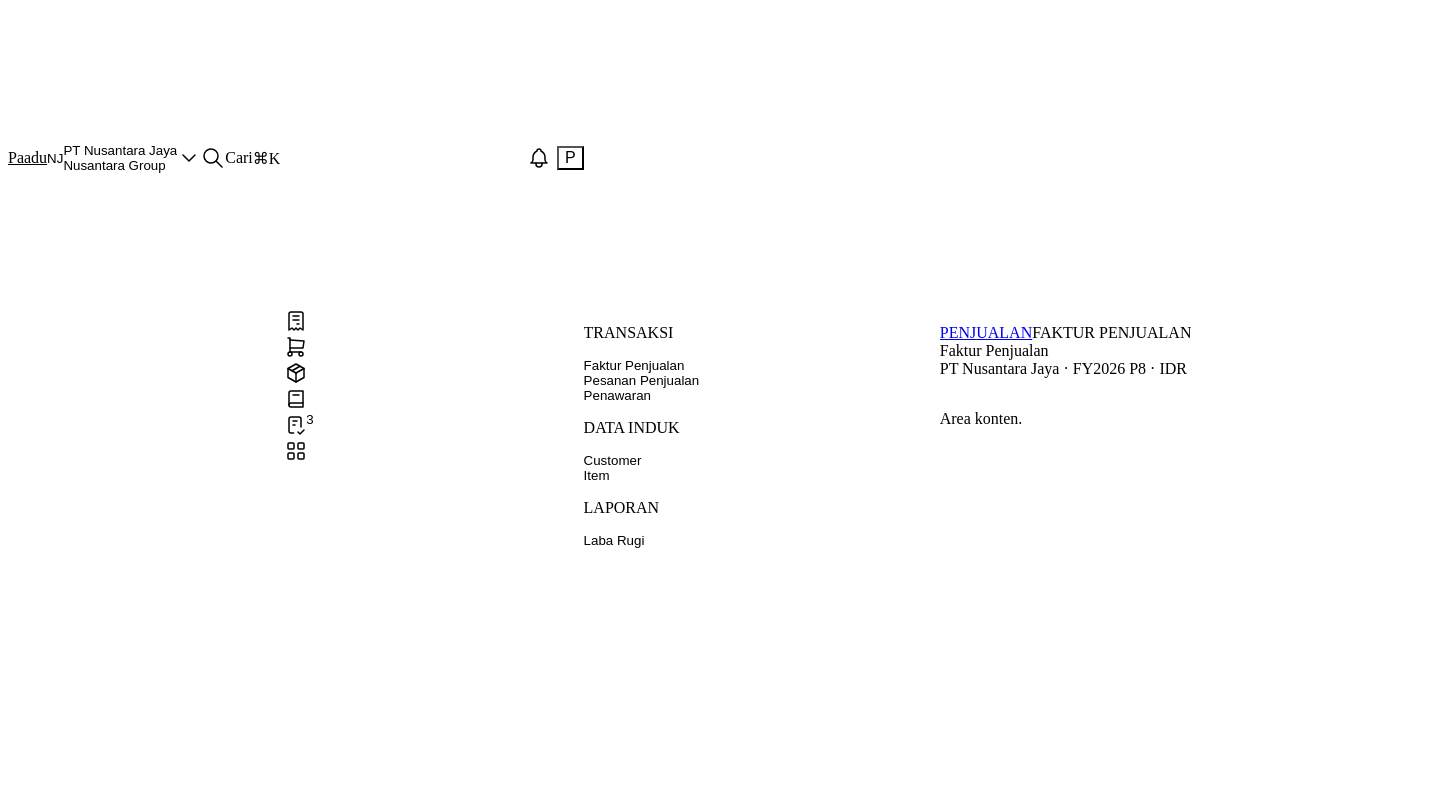
Test: Esc menutup pengalih dan mengembalikan fokus
Click the button "NJ PT Nusantara Jaya Nusantara Group": (124, 158) [47,143,201,173]
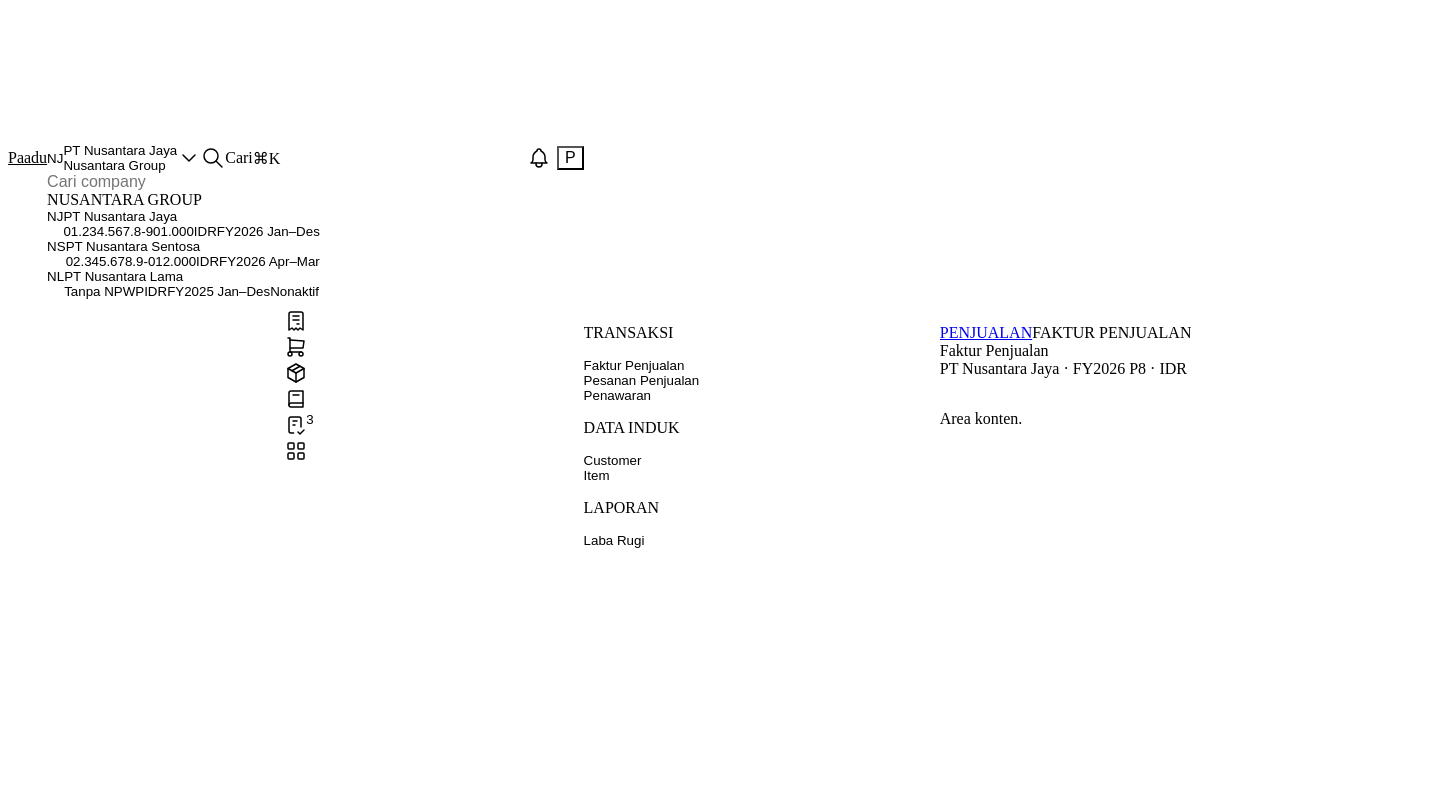
Press Escape
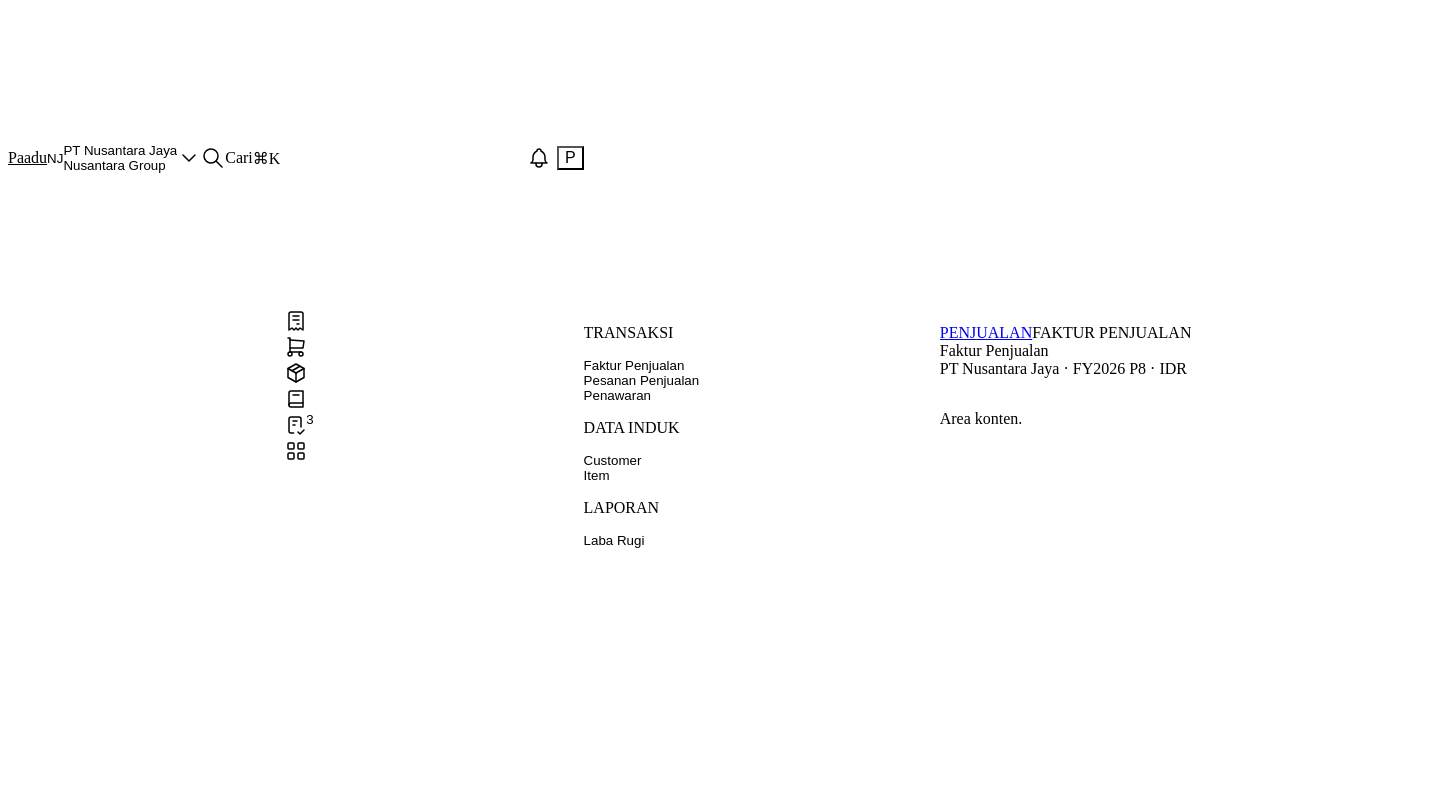
expect the search field labelled "Pilih company" is gone: met
